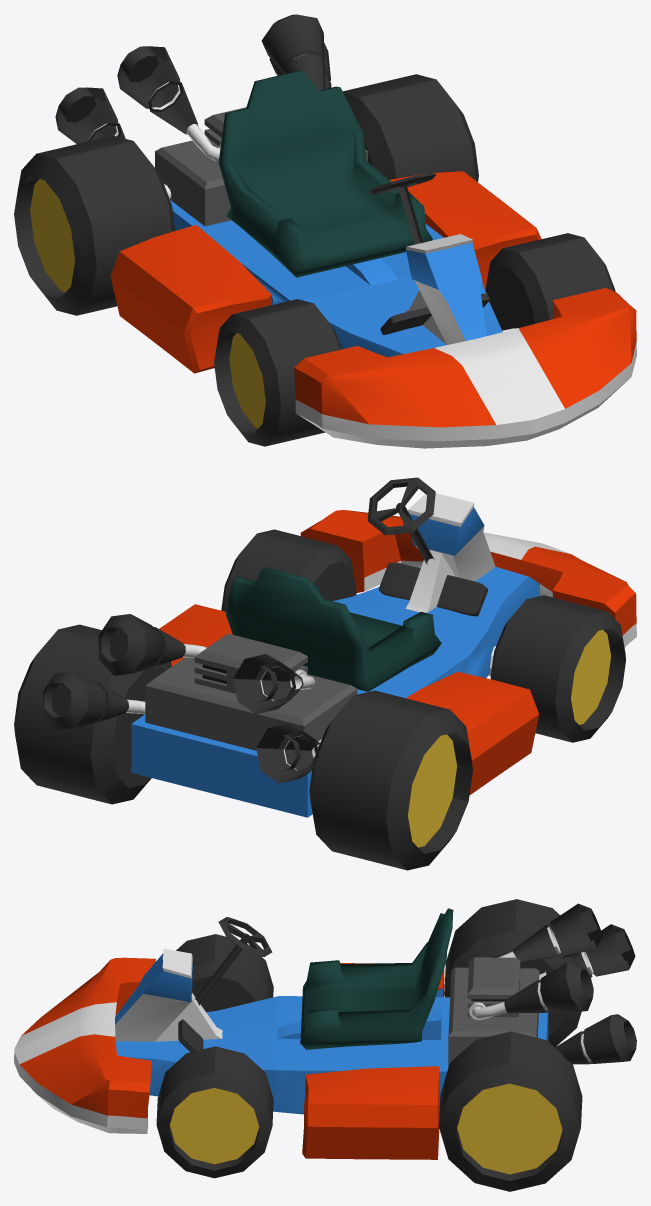
File: go-kart-233881.glb
3 views of the same model, one above another, from view 1: azimuth 30°, elevation 25°; view 2: azimuth 150°, elevation 25°; view 3: azimuth 270°, elevation 25° (orthographic). The views are drawn at different scales.
Parts seen in each view (by area): view 1: PropMesh; view 2: PropMesh; view 3: PropMesh.
Boxes of the visible parts, box(x1,y1,x2,y2) form: PropMesh: box(14, 14, 636, 448); PropMesh: box(14, 477, 636, 870); PropMesh: box(14, 899, 636, 1191).
Size of the model in its own units: 1.14 by 0.6202 by 1.8.
